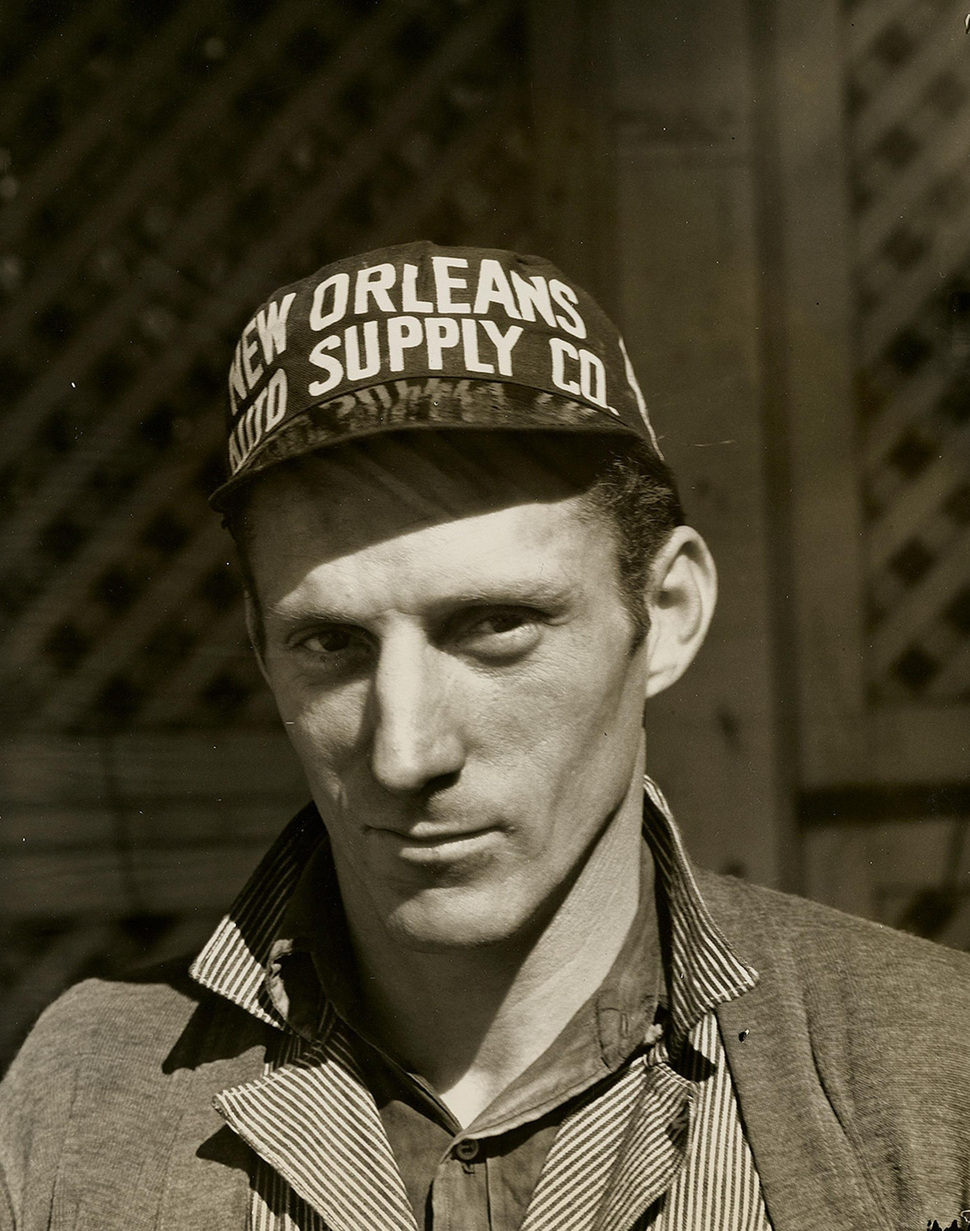cap: (209, 212, 689, 542)
